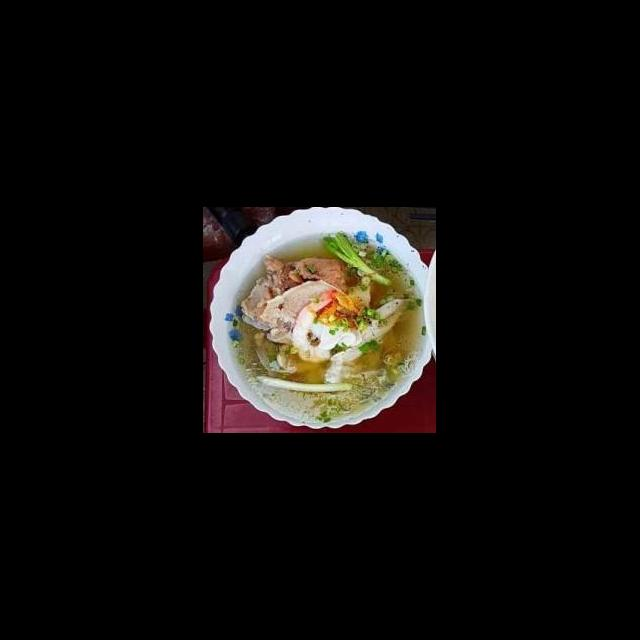thit heo: (256, 275, 364, 341)
tom: (288, 292, 354, 367)
